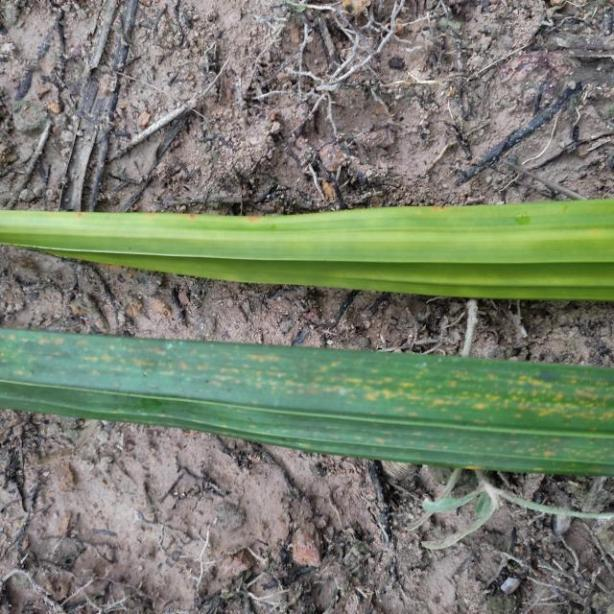nitrogen: (0, 316, 614, 476), (0, 195, 614, 307)
